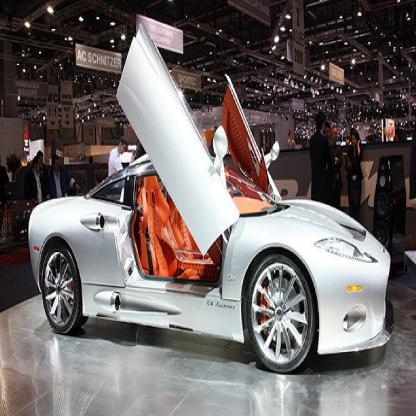Vehicle: (26, 29, 392, 381)
